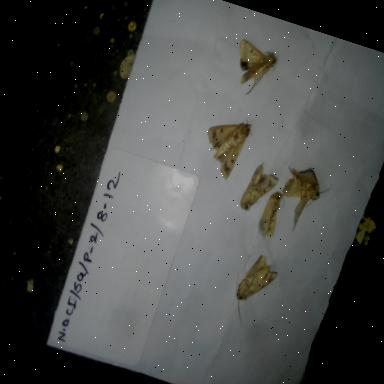abw: (264, 156, 338, 244), (216, 244, 286, 336), (190, 104, 259, 188), (220, 33, 286, 108), (229, 153, 287, 224), (244, 184, 292, 254)
